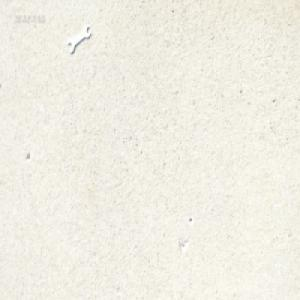Wrench: (67, 23, 90, 54)
